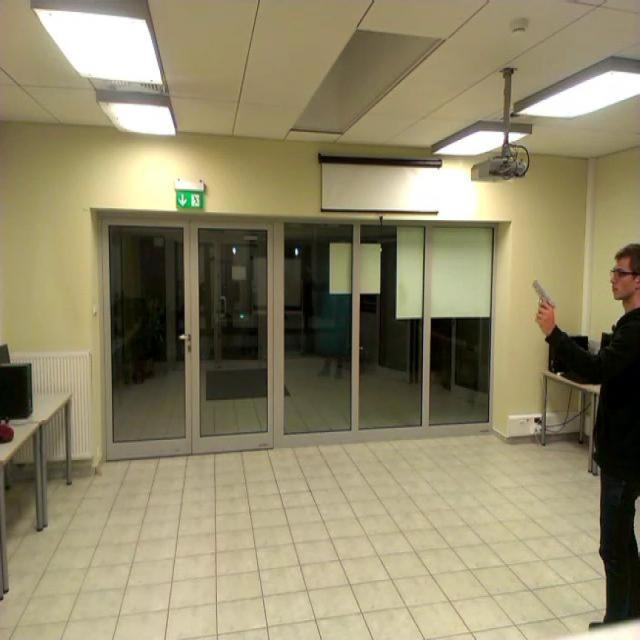pistol: (533, 276, 556, 316)
